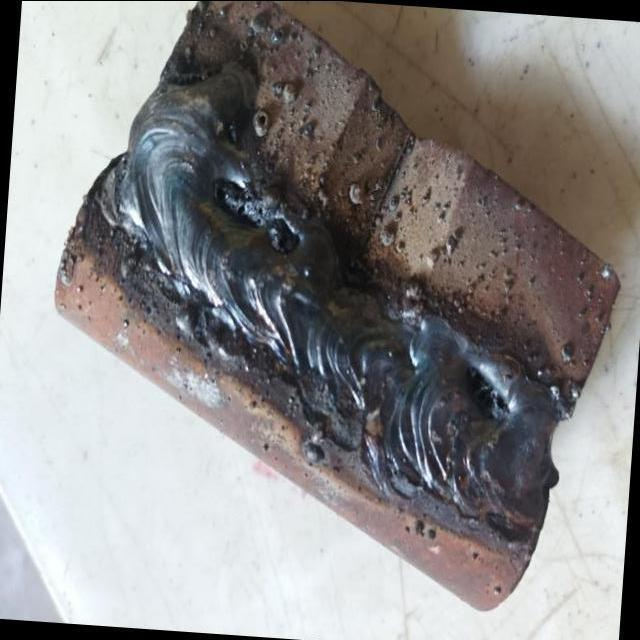defect: (210, 177, 297, 255), (462, 356, 512, 426)
